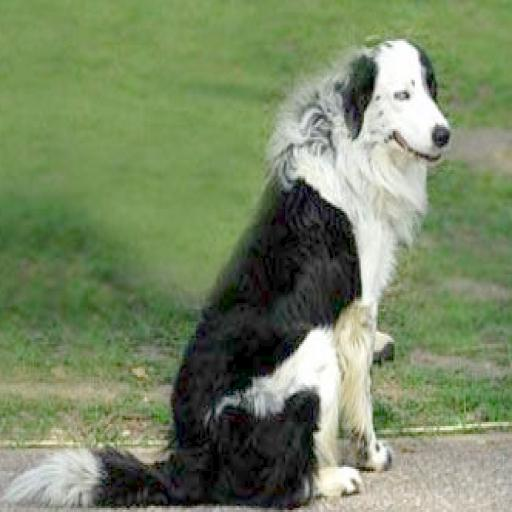dog_face: (356, 34, 458, 167)
